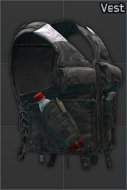Security vest: (0, 0, 127, 190)
